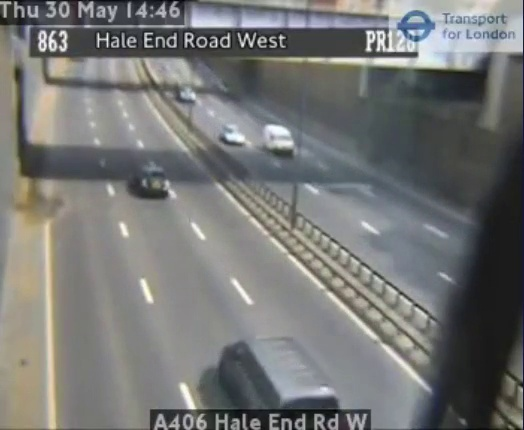car: (134, 166, 169, 196)
van: (221, 336, 339, 409)
